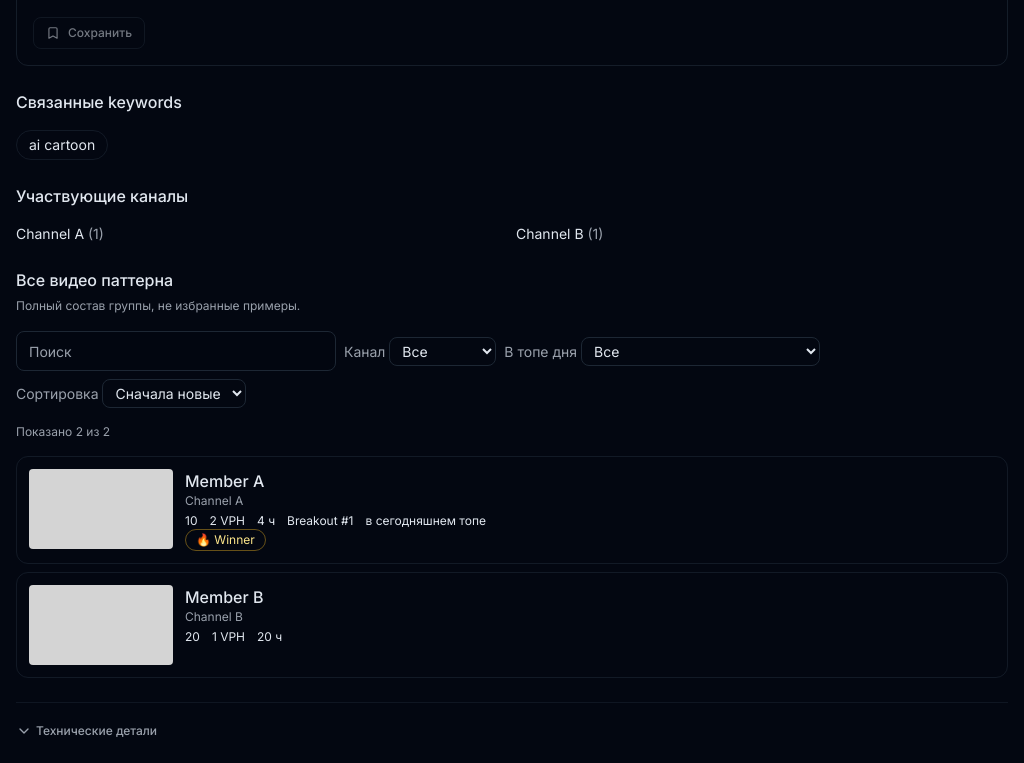
Test: Pattern detail › shows all member videos and technical identity
This screenshot has width=1024, height=763.
(page scrolled)
Expected: the element with test id "pattern-member-list" is shown, [16, 456, 1008, 678]
Expected: the number of elements with test id "pattern-member" is 2, [16, 456, 1008, 564]; [16, 572, 1008, 678]
Step 1. Click the button "Технические детали" → (87, 731), box [16, 715, 157, 747]
(page scrolled)
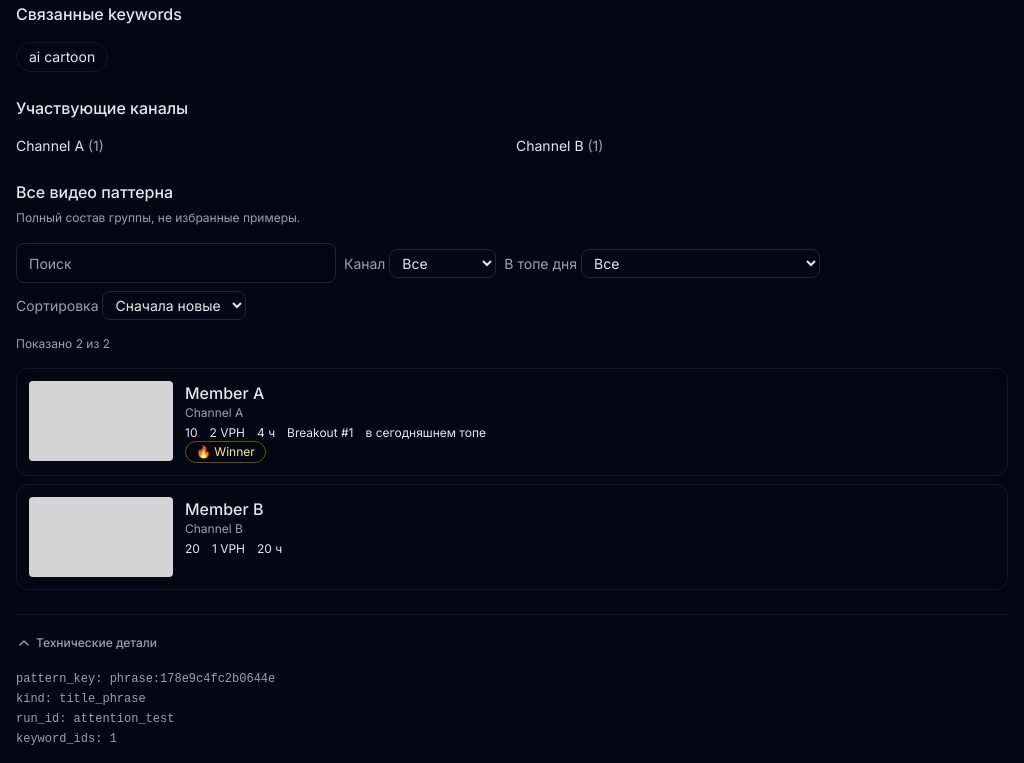
Result: the text "pattern_key: phrase:178e9c4fc2b0644e" is shown at [16, 672, 275, 686]
